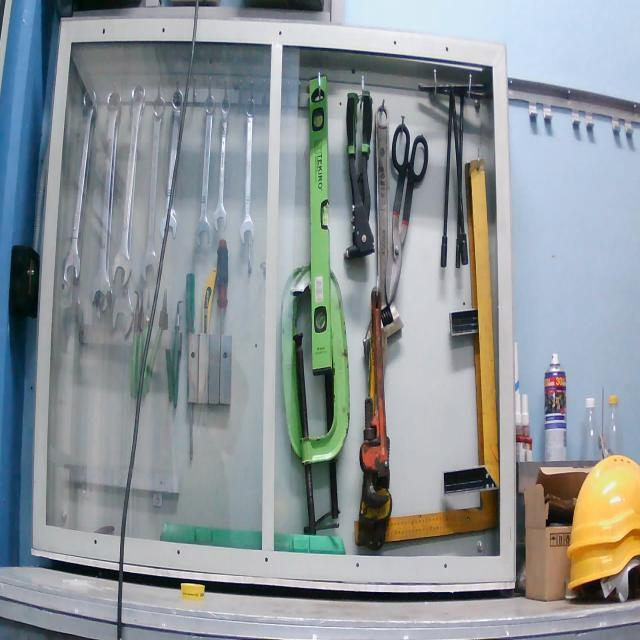water_pass: (305, 71, 335, 379)
